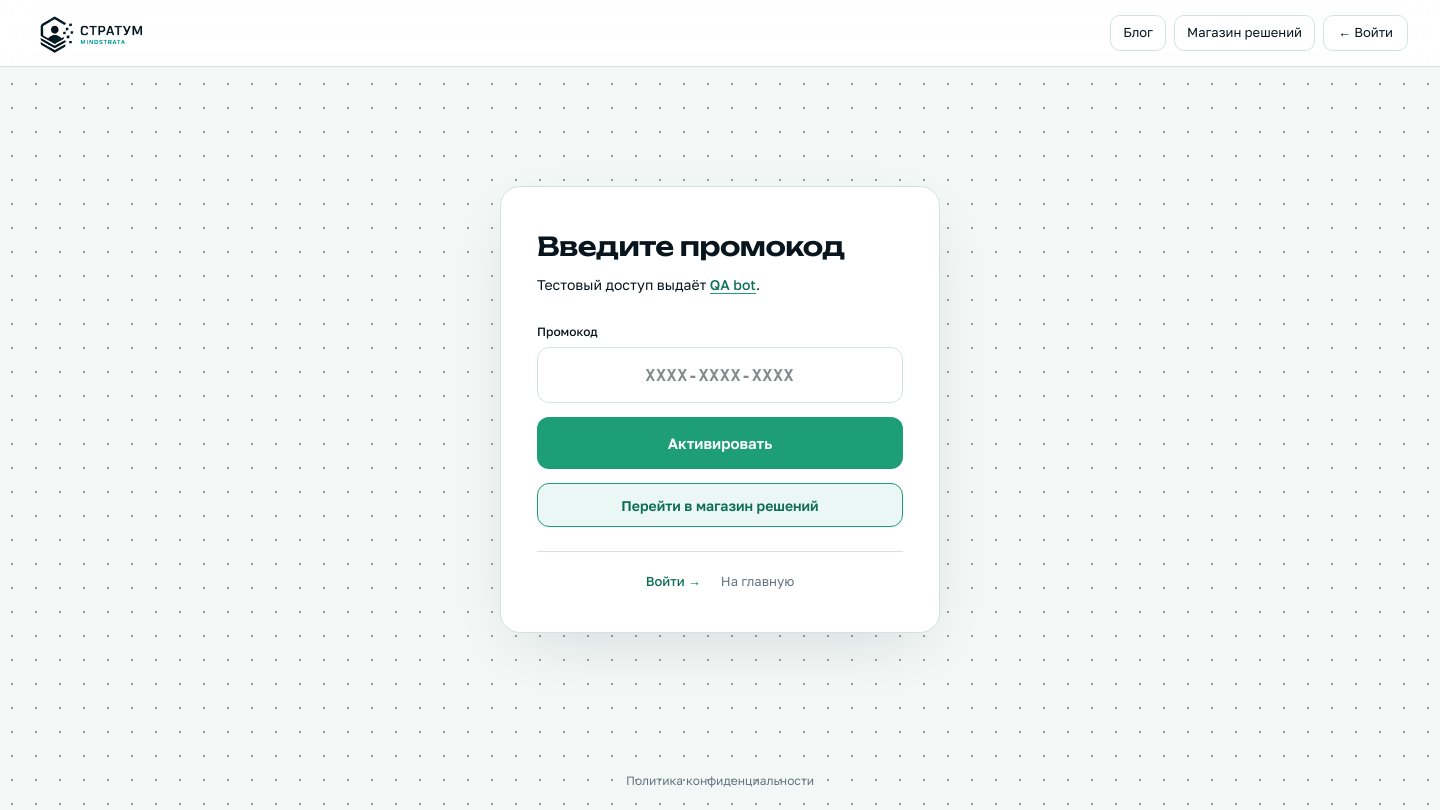
Test: AccessPage P0 › shows max-use exhaustion on the promo form without sending guests to login
Type "sold-out" into the field with placeholder "XXXX-XXXX-XXXX".
click(720, 375); type("sold-out")  # box top-left (537, 347), bottom-right (903, 403)
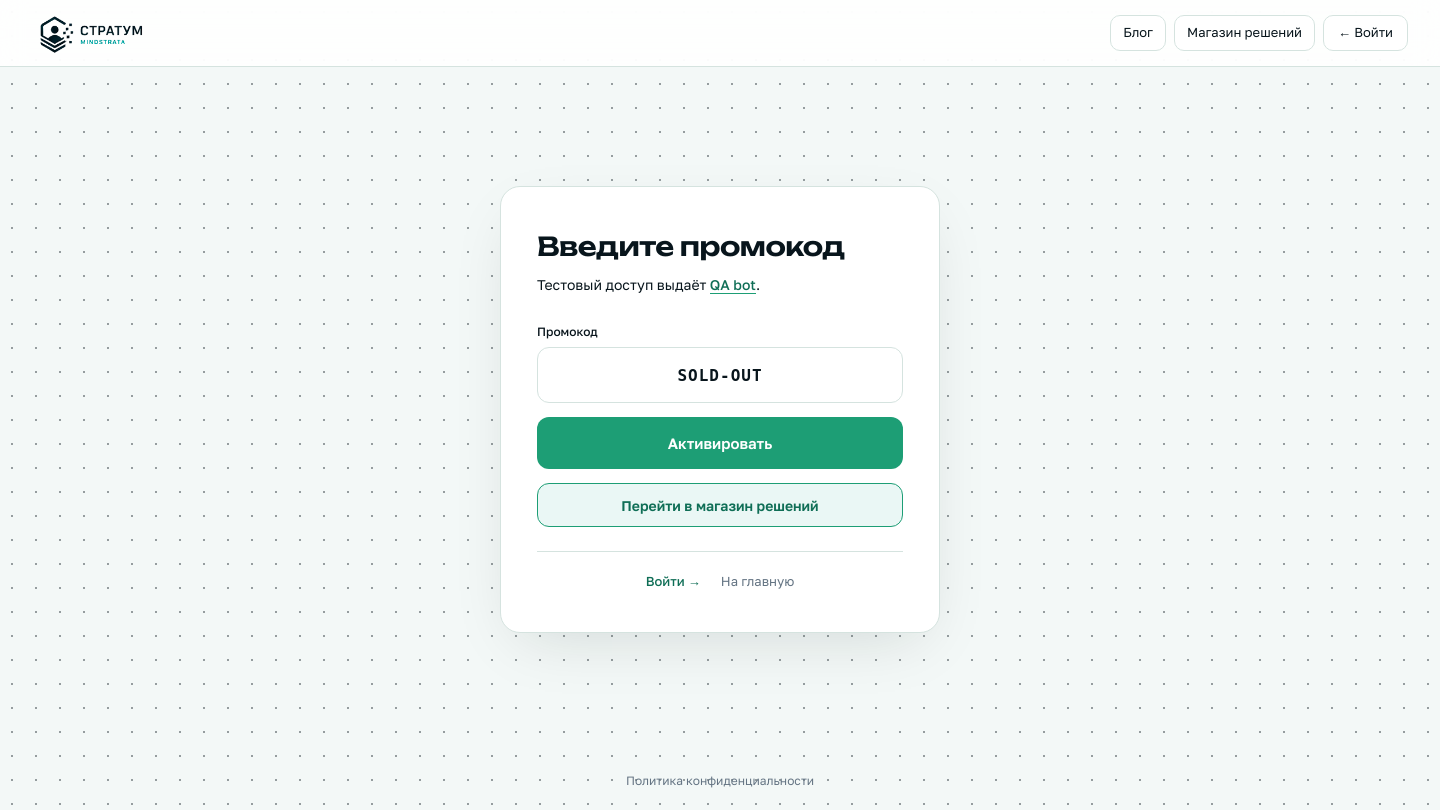
Click the button "Активировать".
click(720, 443)  # box top-left (537, 417), bottom-right (903, 469)
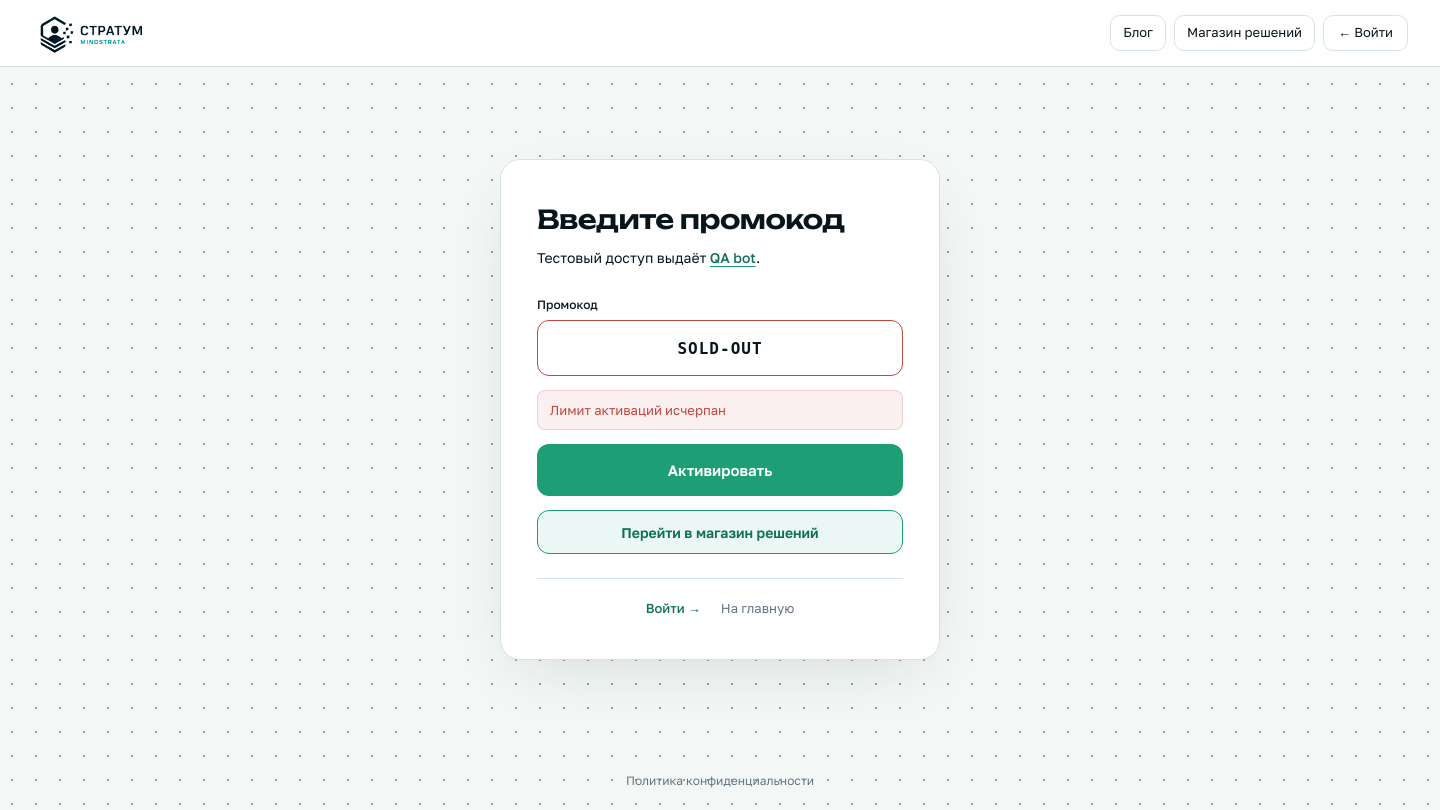
Check: the text "Лимит активаций исчерпан" is shown, box top-left (537, 390), bottom-right (903, 430)
